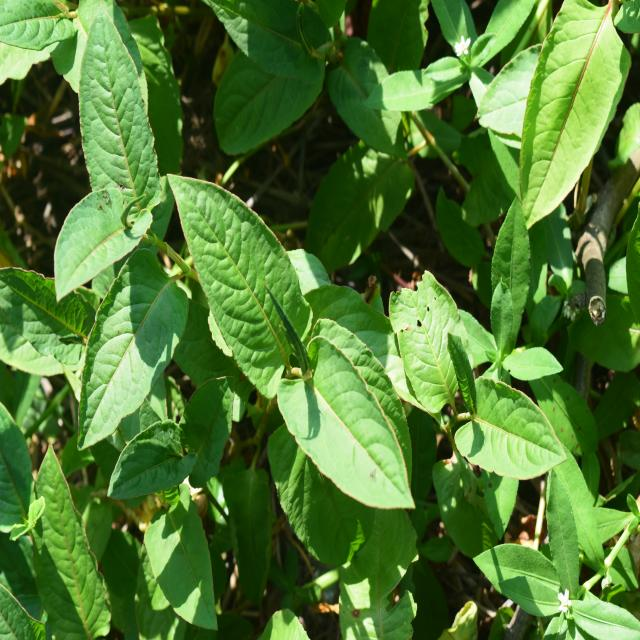Chinese_knotweed: (182, 175, 429, 510), (39, 26, 190, 426), (393, 268, 562, 500)
